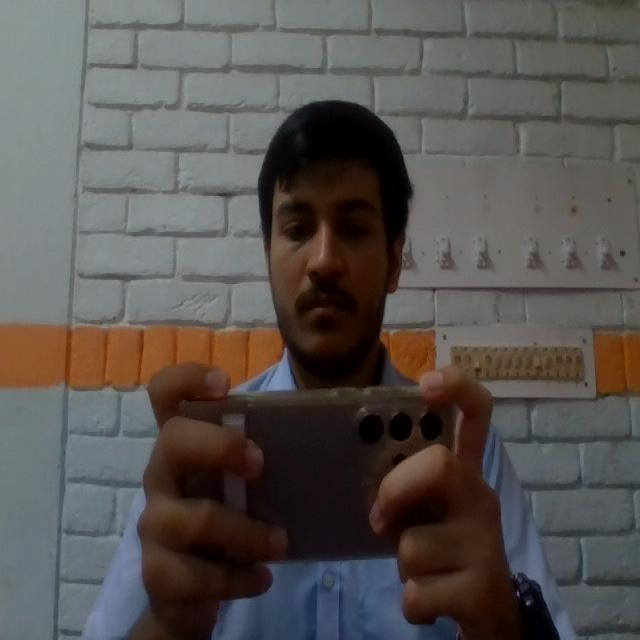phone: (172, 388, 460, 559)
using-phone: (81, 99, 574, 640)
